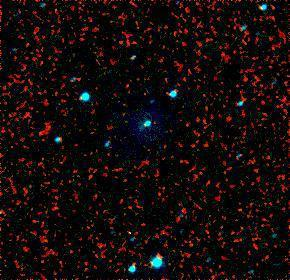star: (123, 219, 153, 249)
